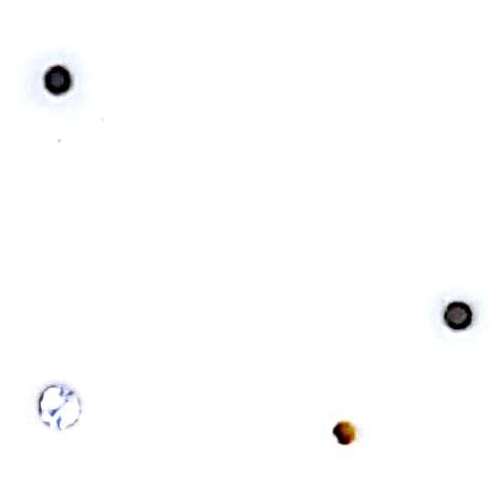abnormal: (27, 368, 104, 447)
cancer: (17, 42, 109, 133), (420, 278, 493, 349)
normal: (311, 407, 373, 458)
